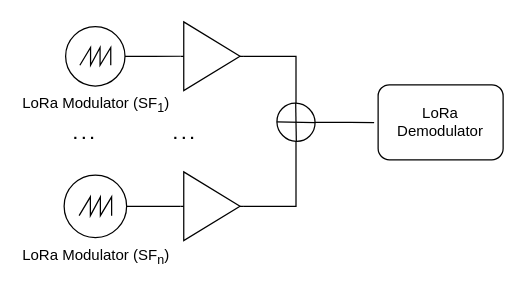
This 525x289 diagram has some shape labels left out. The shapes that lost their labels are listed below. From the top down, each one's box as (x1, y1, x2, y2) in pixels, then its label:
(179, 21, 243, 91): 10 -x/10
(179, 171, 243, 241): 10 -y/10
